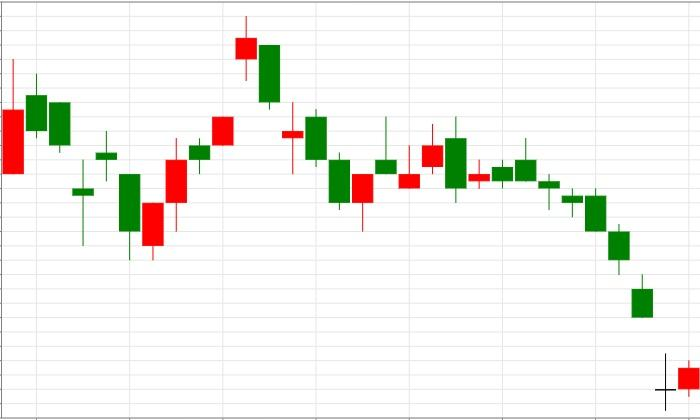bearish_engulfing_fall: (351, 116, 466, 232)
